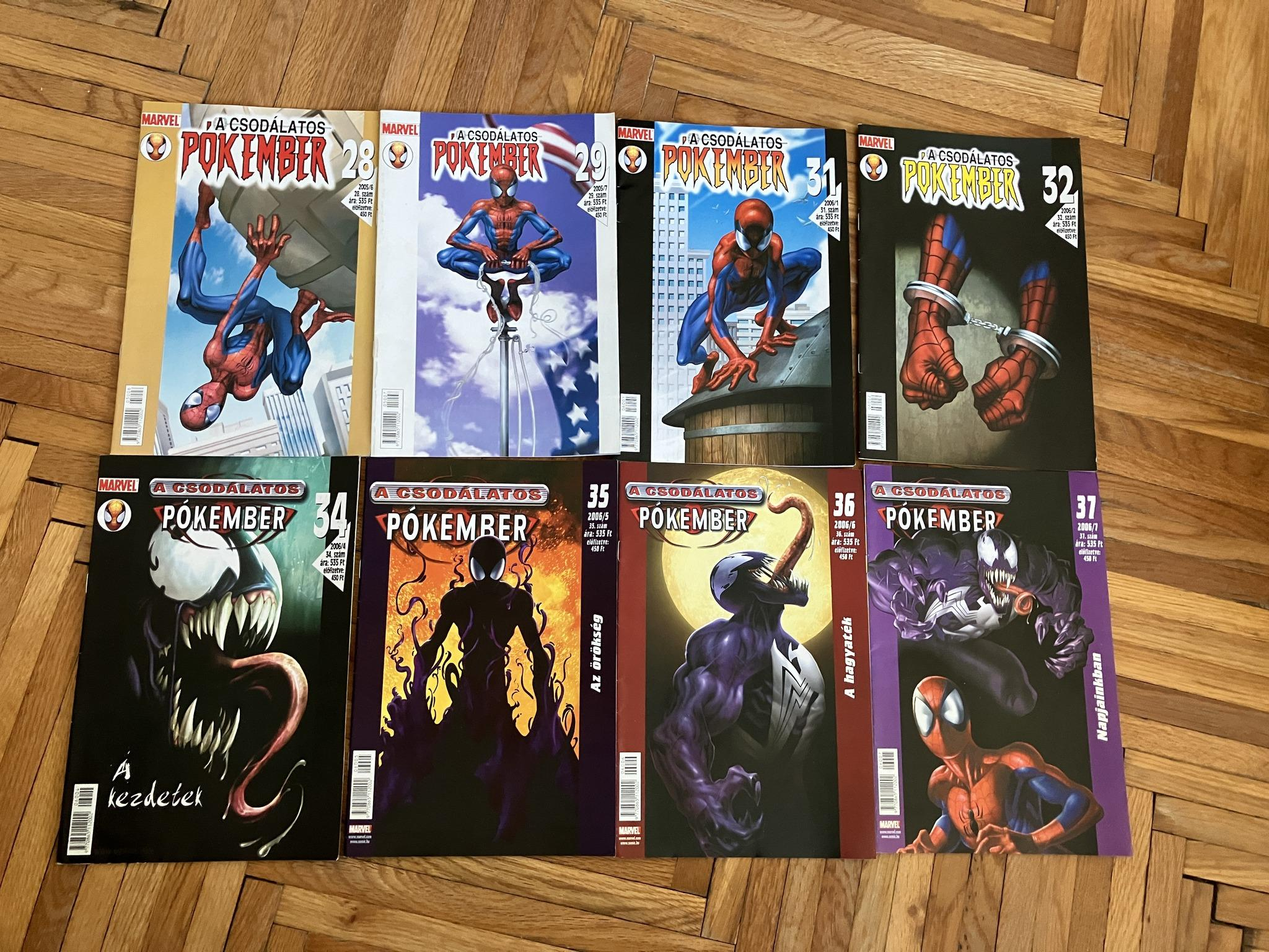comic: (57, 444, 359, 874), (345, 457, 618, 857), (864, 456, 1131, 863), (618, 463, 875, 857), (111, 100, 387, 466), (372, 111, 619, 456), (617, 118, 854, 467), (858, 124, 1095, 471)
